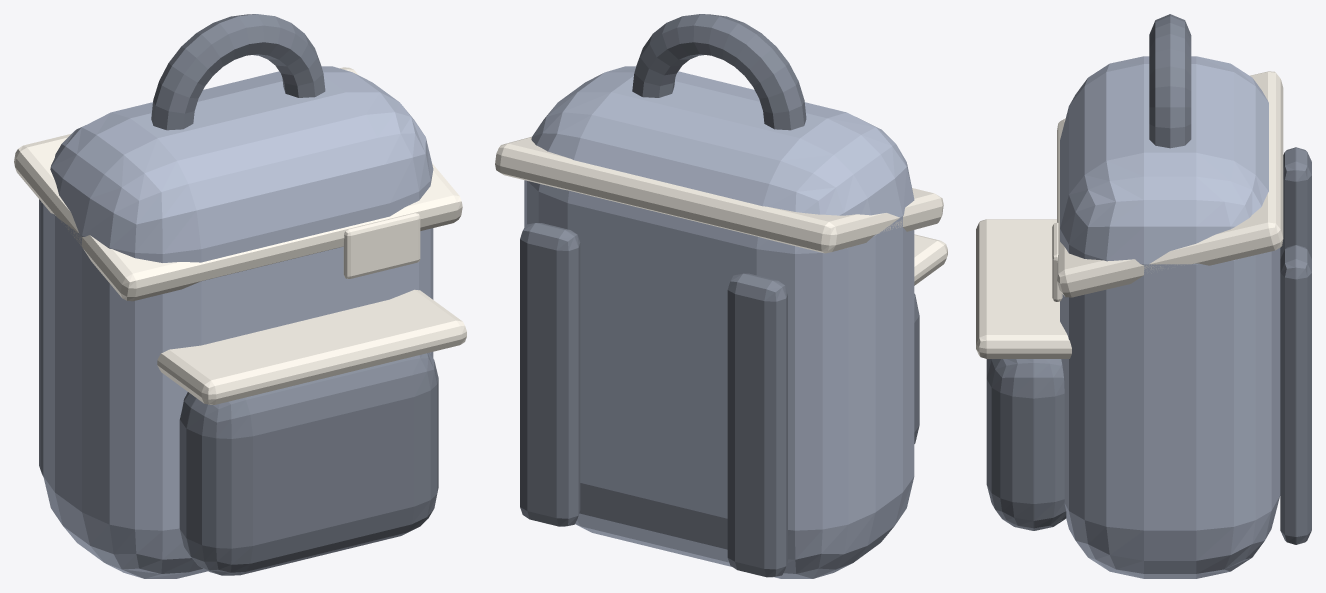
File: bag.glb
The picture shows the model from 3 angles, left to right: view 1: azimuth 30°, elevation 25°; view 2: azimuth 150°, elevation 25°; view 3: azimuth 270°, elevation 25°; orthographic projection. The views are drawn at different scales.
Visible parts, largest first — view 1: bag; view 2: bag; view 3: bag.
Part boxes in pixels (x1=…): bag: x1=14, y1=14, x2=466, y2=578; bag: x1=495, y1=14, x2=947, y2=578; bag: x1=976, y1=14, x2=1311, y2=578.
Bounding box in the file's own units: 0.72 × 1.06 × 0.64.
